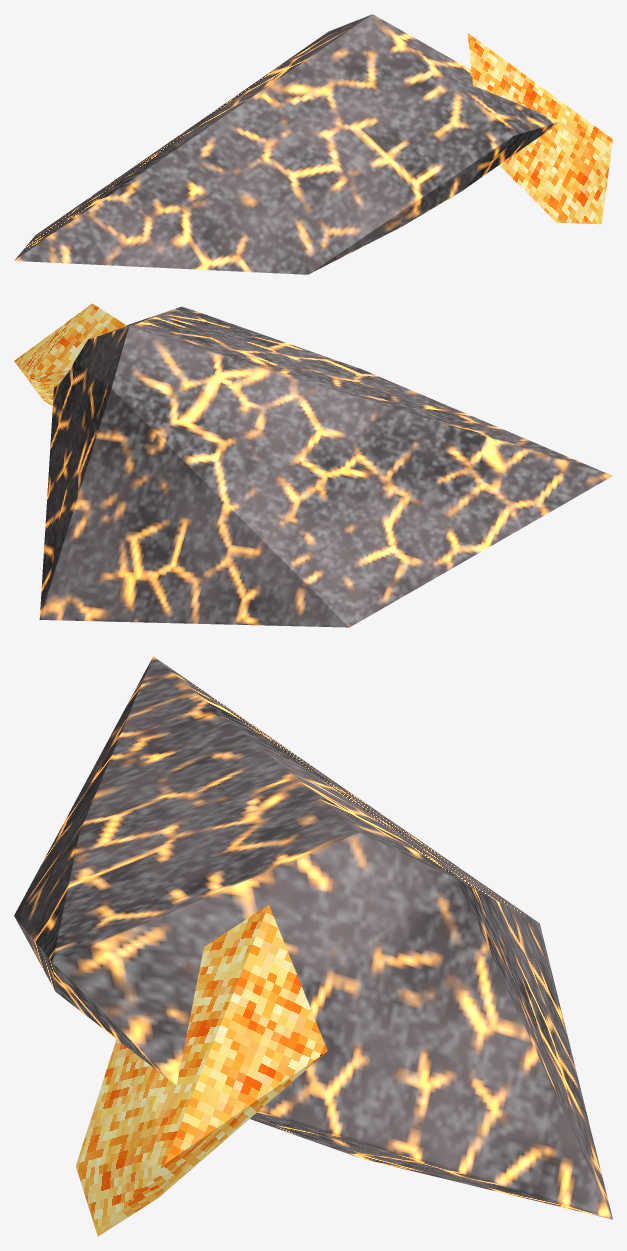
File: debris_03.glb
3 renders of one model, top to bottom at view 1: azimuth 30°, elevation 25°; view 2: azimuth 150°, elevation 25°; view 3: azimuth 270°, elevation 25°, orthographic. The views are drawn at different scales.
Parts seen in each view (by area): view 1: debris_03_hull, debris_03_hot; view 2: debris_03_hull, debris_03_hot; view 3: debris_03_hull, debris_03_hot.
Part boxes in pixels (x1,y1,x2,y2): debris_03_hull: (14,14,560,274); debris_03_hot: (467,33,612,224); debris_03_hull: (39,306,612,627); debris_03_hot: (14,303,126,405); debris_03_hull: (14,656,612,1219); debris_03_hot: (76,905,327,1236).
Bounding box in the file's own units: 4.62 × 1.76 × 2.52.
Materials: 2 (2 with a texture image).
